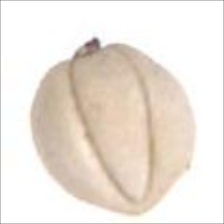L5: (67, 49, 157, 203), (47, 35, 121, 66), (103, 200, 179, 218)
L6: (29, 36, 199, 218)
